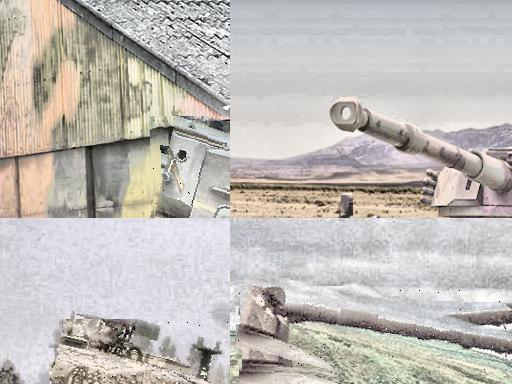tanks: (237, 287, 512, 375), (332, 99, 512, 219), (153, 118, 231, 219), (343, 196, 354, 216), (376, 217, 379, 219)
